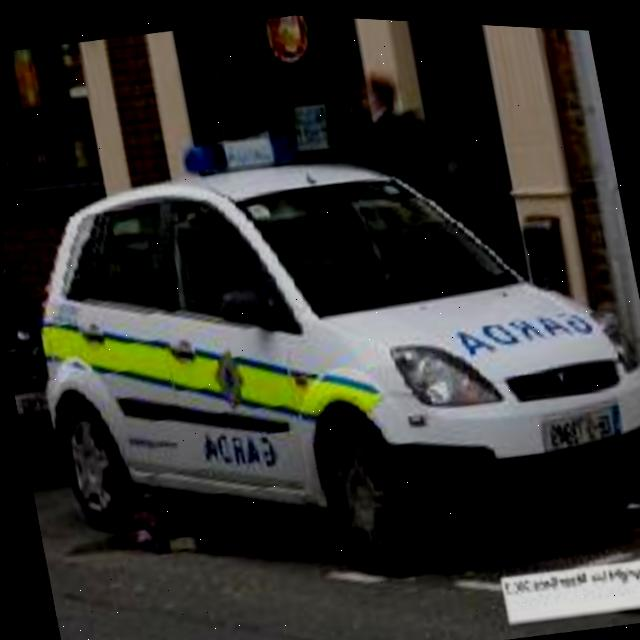emergency: (11, 63, 640, 586)
